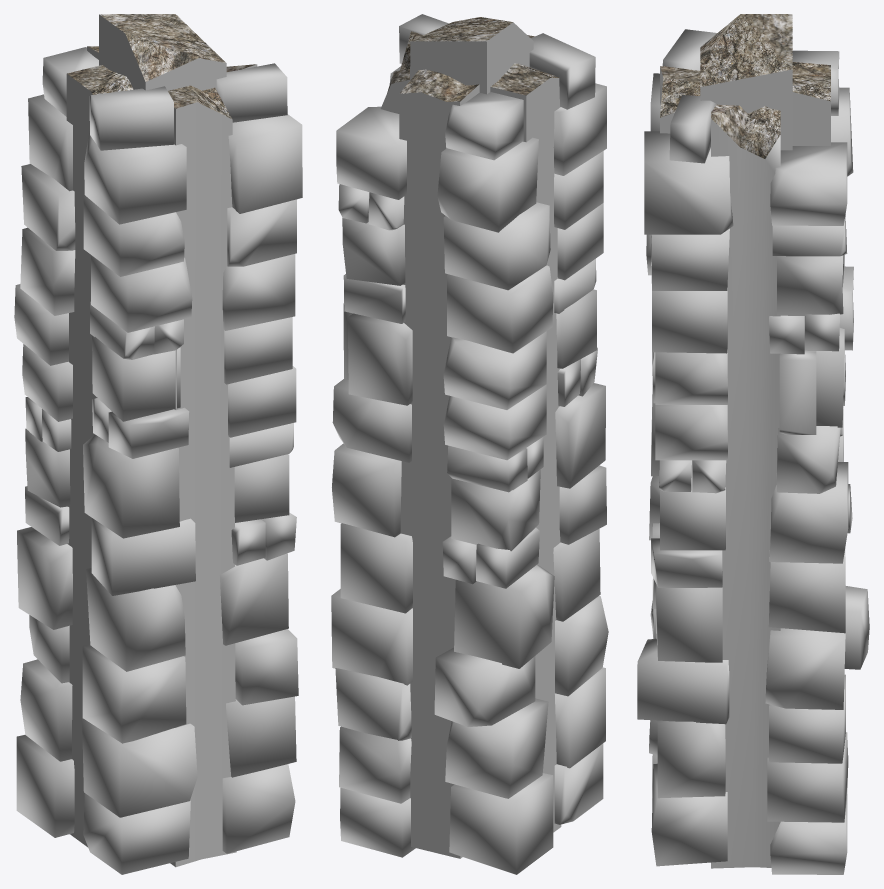
Rendered from Ruins_20A.fbx.
3 views of the same model, side by side, from view 1: azimuth 30°, elevation 25°; view 2: azimuth 150°, elevation 25°; view 3: azimuth 270°, elevation 25° (orthographic).
Visible parts, largest first — view 1: polySurface3517; view 2: polySurface3517; view 3: polySurface3517.
Part boxes in pixels (x1,y1,x2,y2): polySurface3517: (14,14,302,874); polySurface3517: (331,14,608,874); polySurface3517: (637,14,869,874).
Size of the model in its own units: 1.29 by 5.21 by 1.37.
